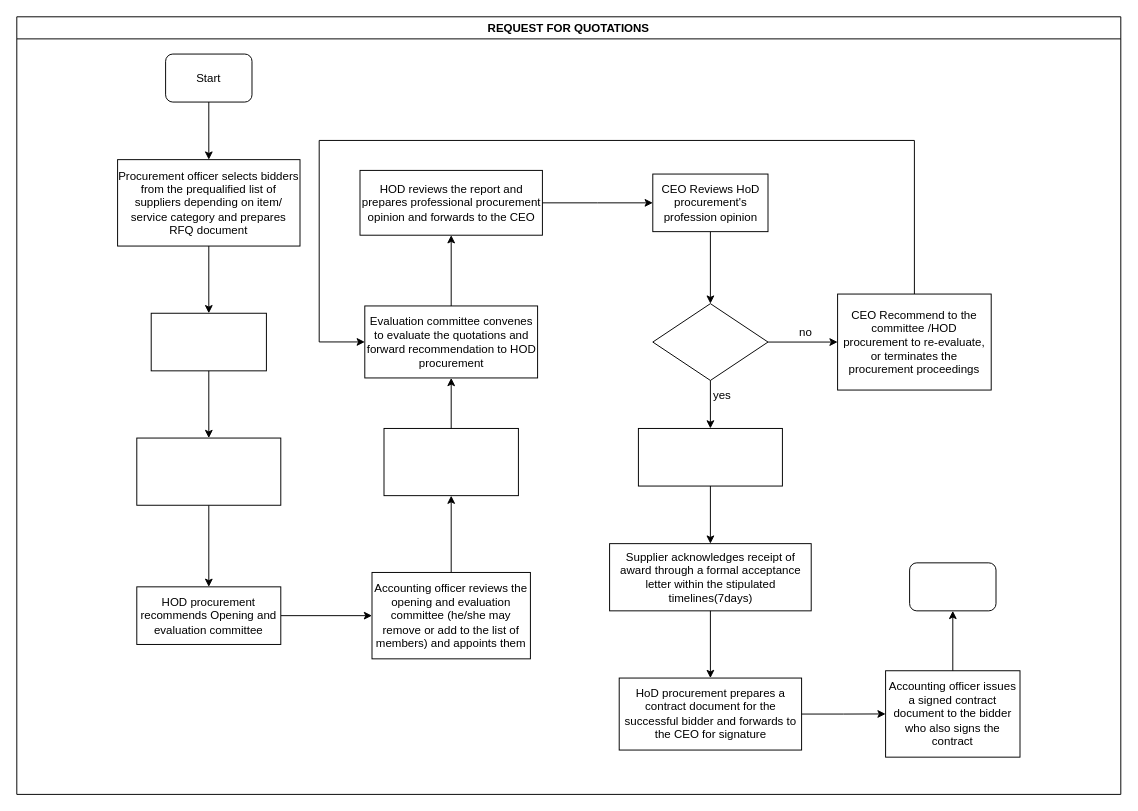
This 1138x811 diagram has some shape labels left out. The shapes that lost their labels are listed below. From the top down, each one's centre as x and y in pixels, then its label:
(208,341): HoD procurement sends RFQ document to select suppliers
(710,341): CEO Agrees?
(208,471): HOD procurement receives quotations from suppliers until the deadline
(450,461): Opening committee convenes to open the quotations and creates a report/minutes
(709,456): Notification of award to successful/ unsuccessful bidder
(952,586): End
